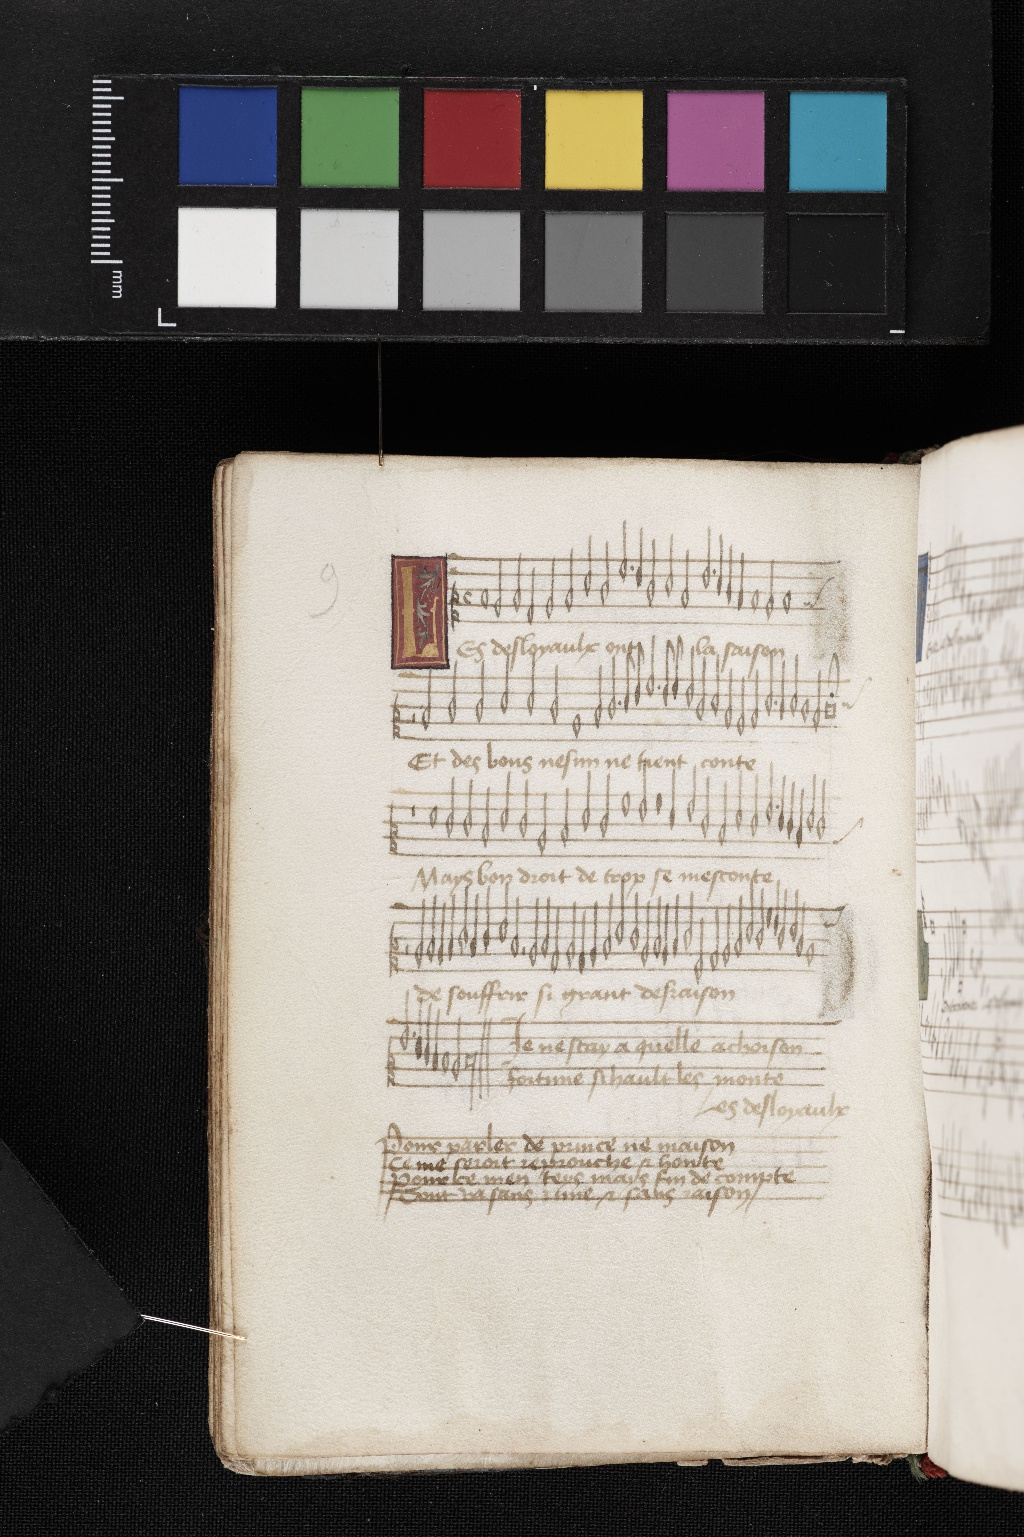c clef_9: (385, 918, 401, 980)
colored semibreve_4: (763, 902, 775, 931)
custos_5: (821, 903, 837, 924)
minim rest: (519, 896, 530, 974), (401, 904, 411, 979)
minim_10: (549, 908, 561, 978), (709, 911, 720, 974)
minim_11: (691, 920, 705, 985)
minim_6: (496, 884, 511, 948), (613, 886, 626, 948), (787, 887, 800, 948), (743, 887, 754, 948)
minim_7: (778, 892, 793, 951), (629, 895, 642, 953), (683, 892, 696, 954), (754, 888, 766, 951)
minim_8: (456, 891, 470, 958), (600, 896, 613, 963), (731, 897, 744, 961), (794, 900, 806, 962), (539, 899, 550, 962), (651, 898, 661, 963), (512, 899, 520, 962)
minim_9: (411, 900, 426, 972), (565, 903, 578, 970), (426, 896, 438, 966), (640, 903, 651, 970), (528, 904, 539, 969), (721, 906, 733, 969)
semibreve_9: (803, 939, 819, 971)
semiminim_11: (576, 910, 587, 979)
semiminim_5: (773, 883, 781, 938)
semiminim_7: (481, 888, 494, 959)
semiminim_8: (469, 891, 480, 961), (445, 897, 455, 964), (670, 897, 680, 960)
semiminim_9: (587, 904, 599, 971), (661, 898, 671, 971), (435, 900, 446, 969)
